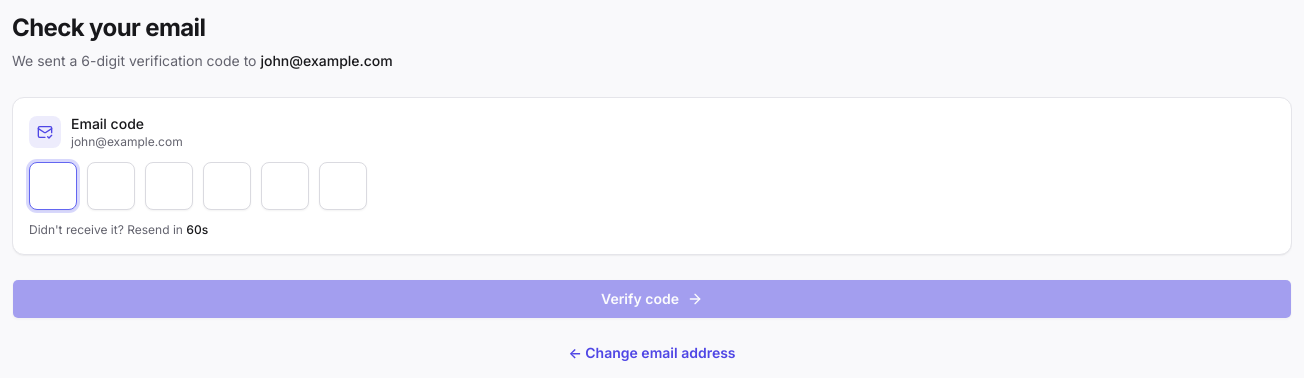
it: ForgotPasswordOtpStep Component › should reset OTP and show cooldown when resend is clicked
The width and height of the screenshot is (1304, 378).
Type "1" into the field named "Digit 1 of 6" at [53, 186], box [29,162,77,210]
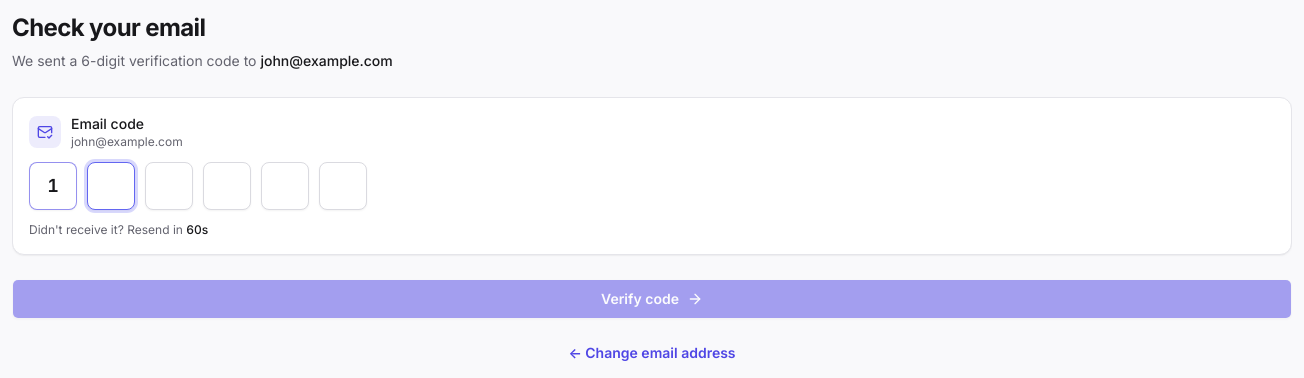
Type "1" into the field named "Digit 2 of 6" at [111, 186], box [87,162,135,210]
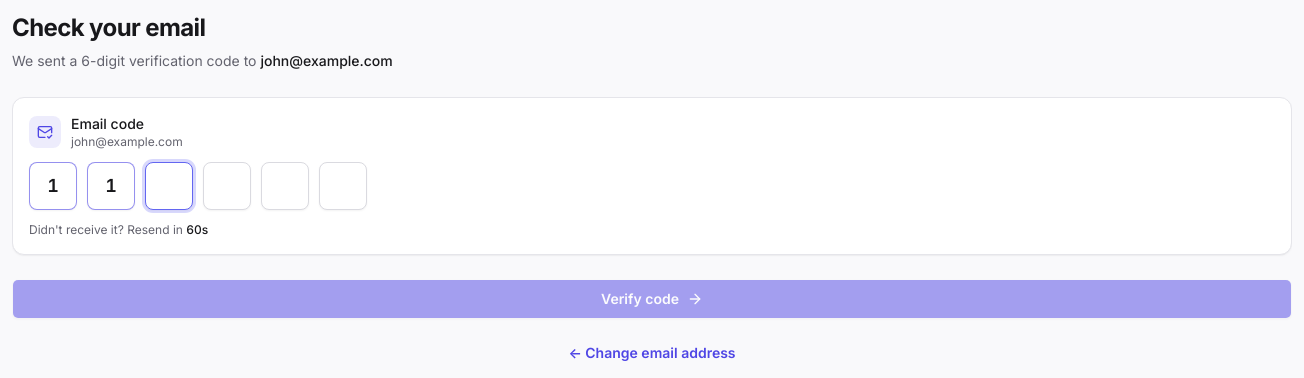
Type "1" into the field named "Digit 3 of 6" at [169, 186], box [145,162,193,210]
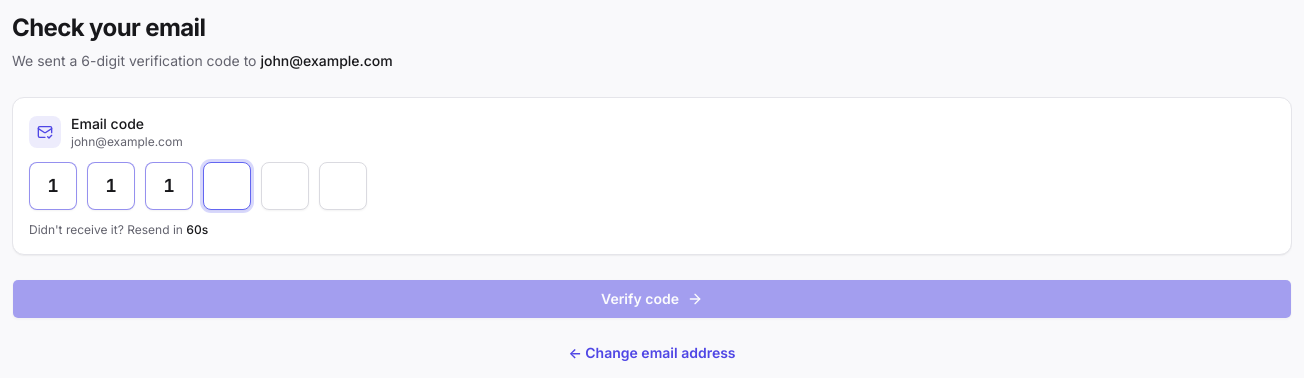
Type "1" into the field named "Digit 4 of 6" at [227, 186], box [203,162,251,210]
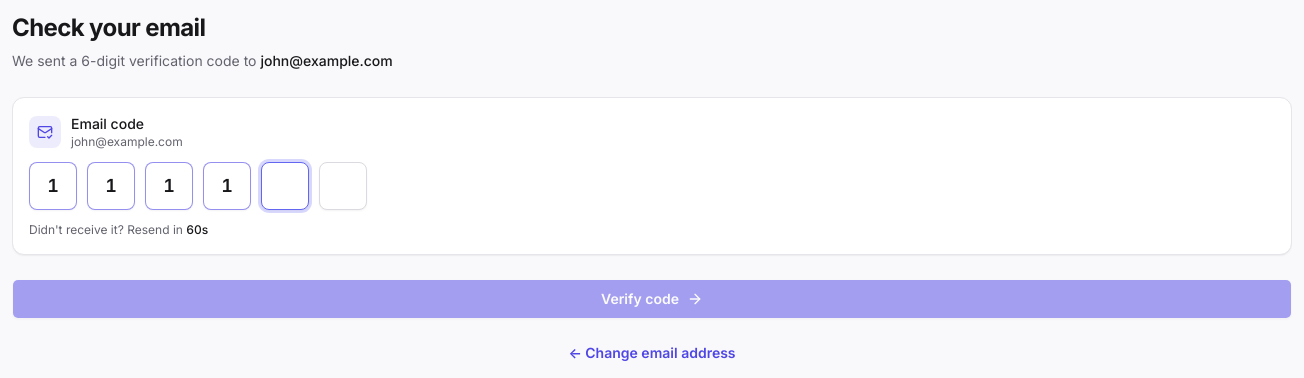
Type "1" into the field named "Digit 5 of 6" at [285, 186], box [261,162,309,210]
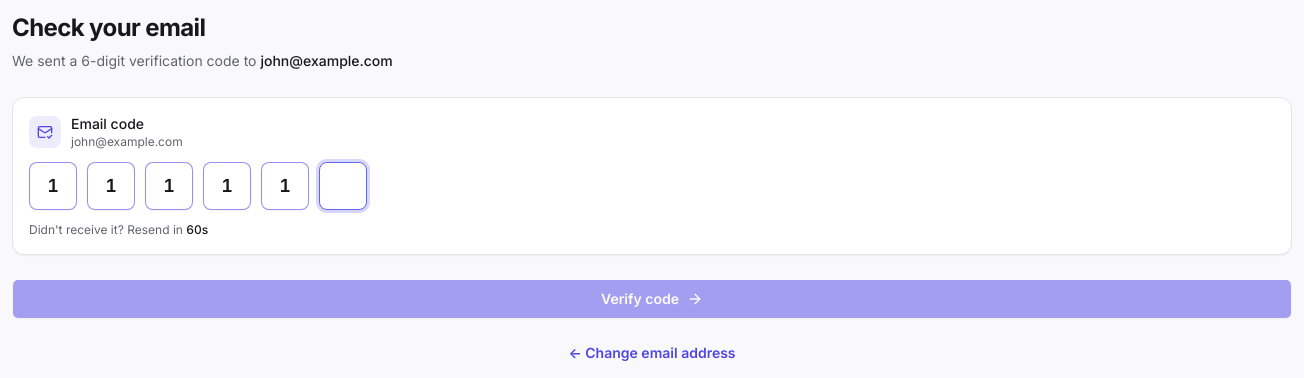
Type "1" into the field named "Digit 6 of 6" at [343, 186], box [319,162,367,210]
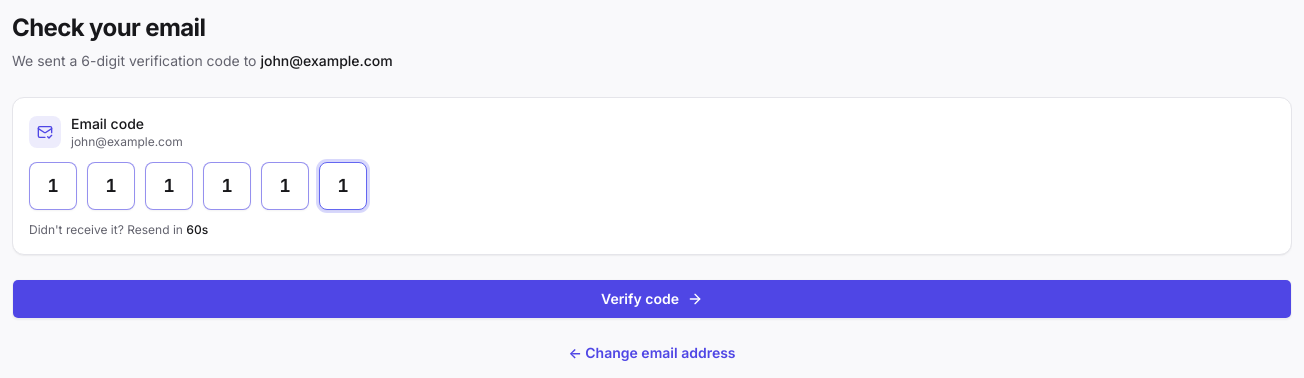
Expected: the button "Verify code" is enabled, [12,279,1292,319]
